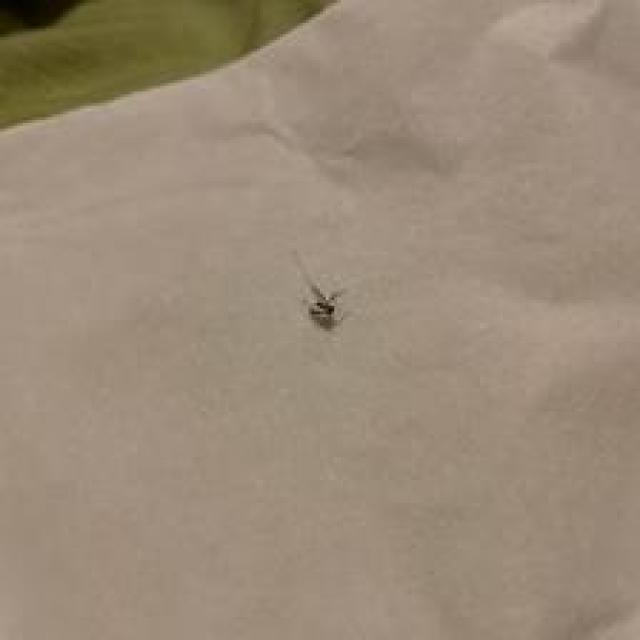Culex: (292, 248, 348, 332)
